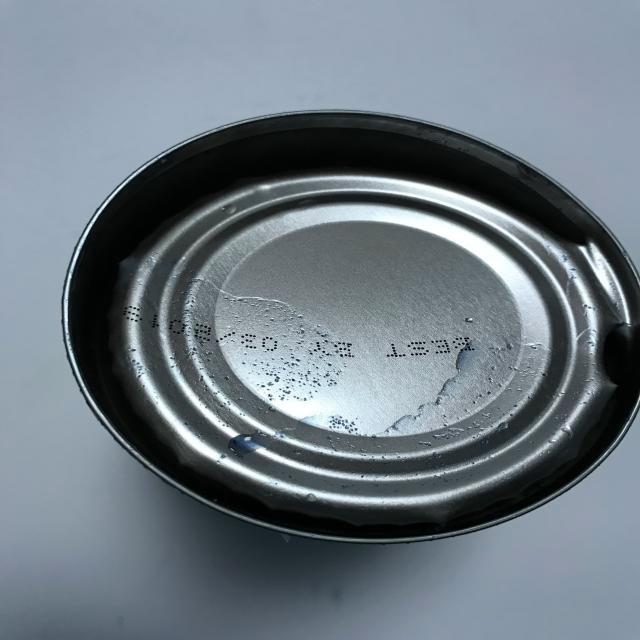metal: (43, 102, 640, 567)
